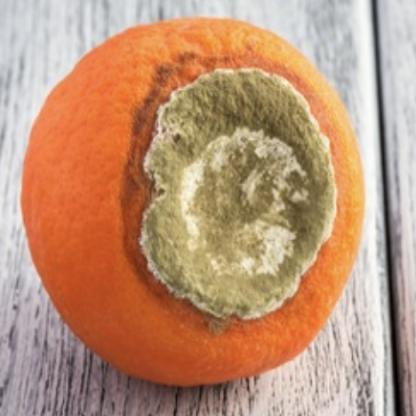rotten: (19, 18, 365, 383)
